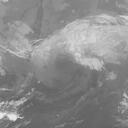cyclone: (43, 23, 104, 76)
